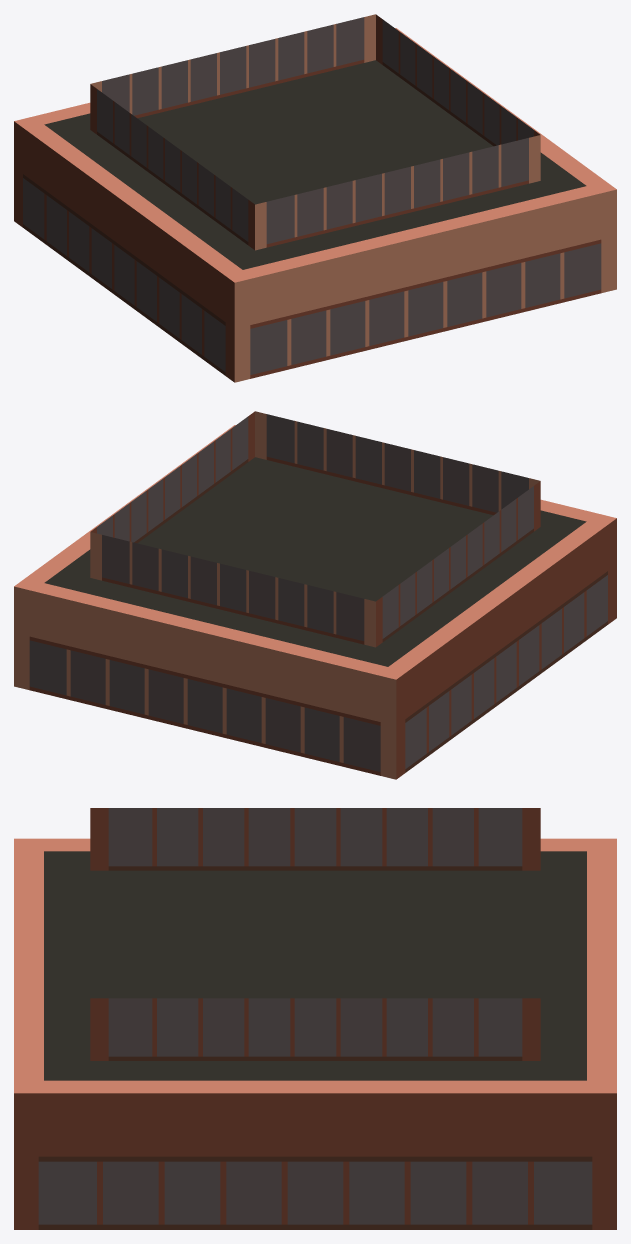
File: TB_CITY_Skysc_N_Lower_Top_Brown.FBX
The picture shows the model from 3 angles, top to bottom: view 1: azimuth 30°, elevation 25°; view 2: azimuth 150°, elevation 25°; view 3: azimuth 270°, elevation 25°; orthographic projection. The views are drawn at different scales.
Visible parts, largest first — view 1: TB_CITY_Skysc_N_Lower_Top_Brown; view 2: TB_CITY_Skysc_N_Lower_Top_Brown; view 3: TB_CITY_Skysc_N_Lower_Top_Brown.
Boxes of the visible parts, left/top/right/bottom form: TB_CITY_Skysc_N_Lower_Top_Brown: left=14, top=14, right=616, bottom=382; TB_CITY_Skysc_N_Lower_Top_Brown: left=14, top=411, right=616, bottom=779; TB_CITY_Skysc_N_Lower_Top_Brown: left=14, top=808, right=616, bottom=1229.
Size of the model in its own units: 20 by 7.3 by 20.
